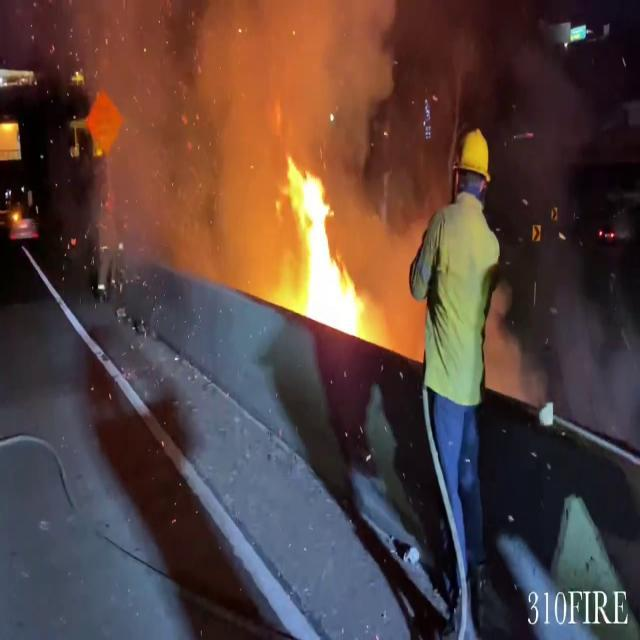Fire: (280, 149, 372, 338)
Smoke: (68, 0, 400, 266)
